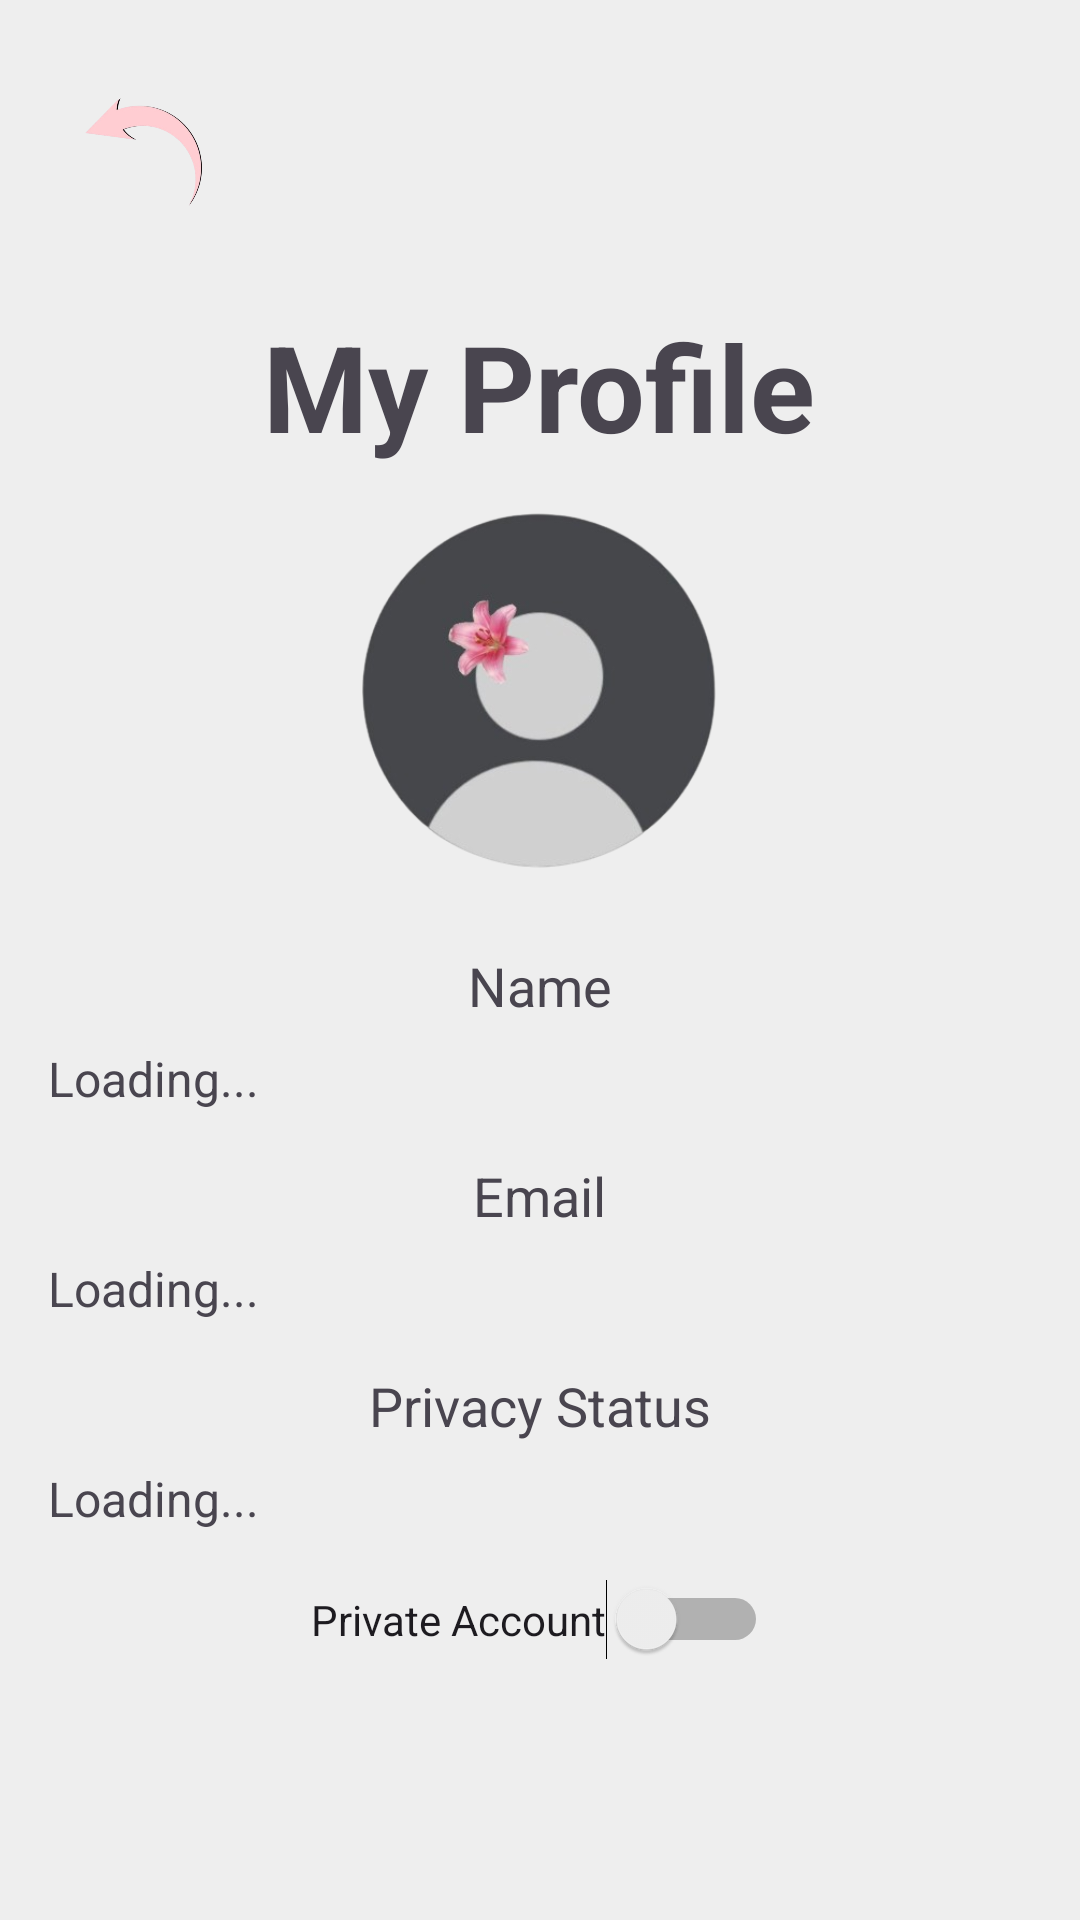

Icons on this 1080px x 1920px Android screen, each with its box as (x1, y1, x2, y2):
Back Button: (86, 98, 202, 205)
